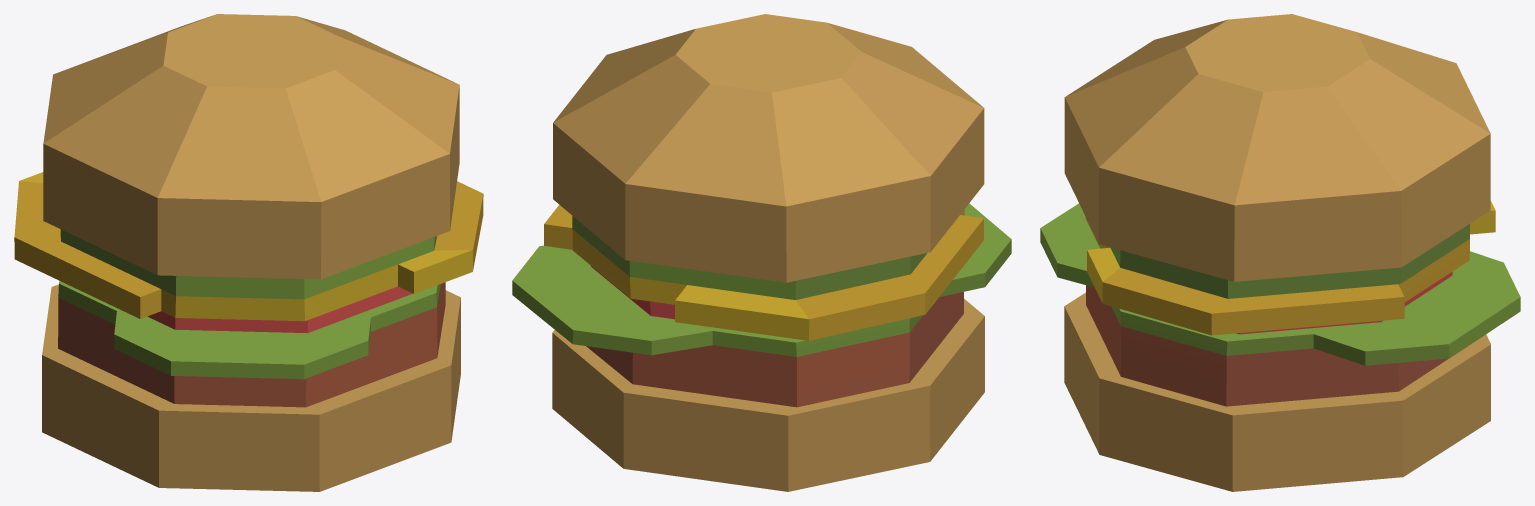
Rendered from burger_c.fbx.
3 renders of one model, left to right at view 1: azimuth 30°, elevation 25°; view 2: azimuth 150°, elevation 25°; view 3: azimuth 270°, elevation 25°, orthographic.
Visible parts, largest first — view 1: burger.001; view 2: burger.001; view 3: burger.001.
Boxes of the visible parts, <box> form: burger.001: <box>14,14,483,491</box>; burger.001: <box>512,14,1011,491</box>; burger.001: <box>1040,14,1520,491</box>.
Size of the model in its own units: 0.5009 by 0.5308 by 0.4253.
